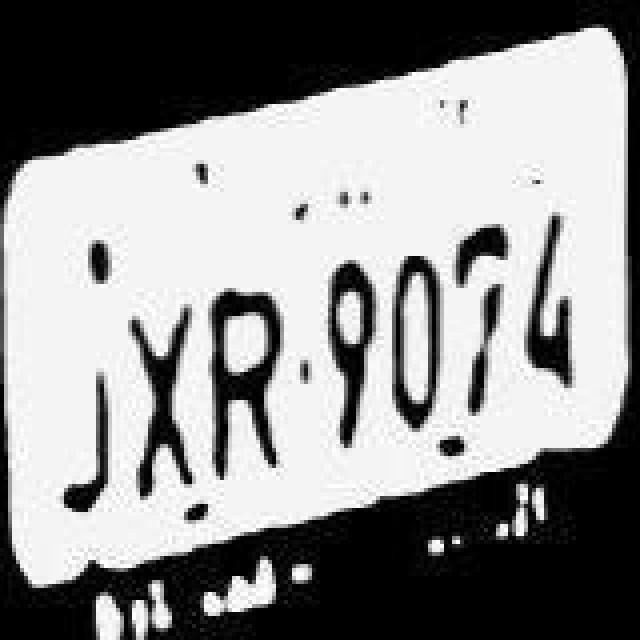4: (518, 198, 590, 442)
7: (450, 184, 514, 432)
9: (318, 238, 382, 490)
J: (50, 322, 122, 542)
O: (380, 210, 448, 446)
R: (212, 254, 296, 490)
X: (128, 280, 204, 504)
